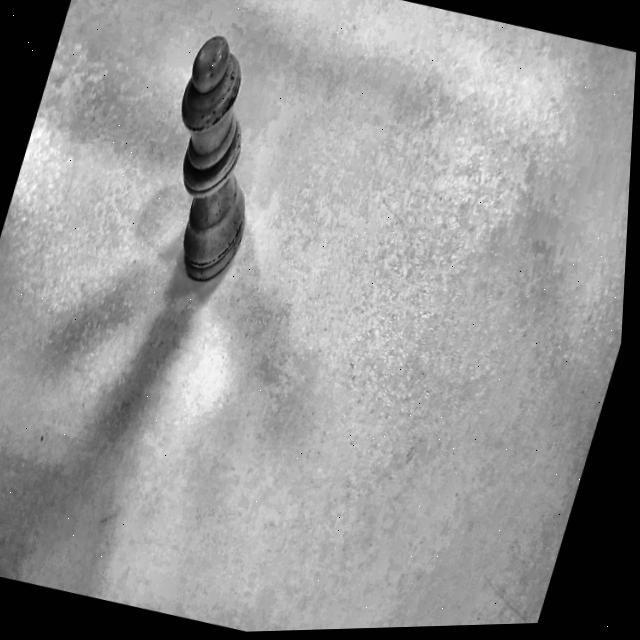white-queen: (97, 0, 316, 325)
